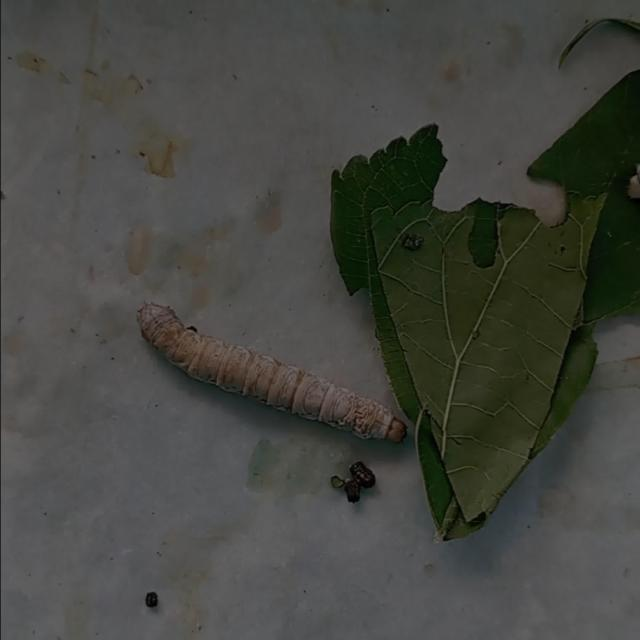Grasserie: (122, 261, 428, 471)
